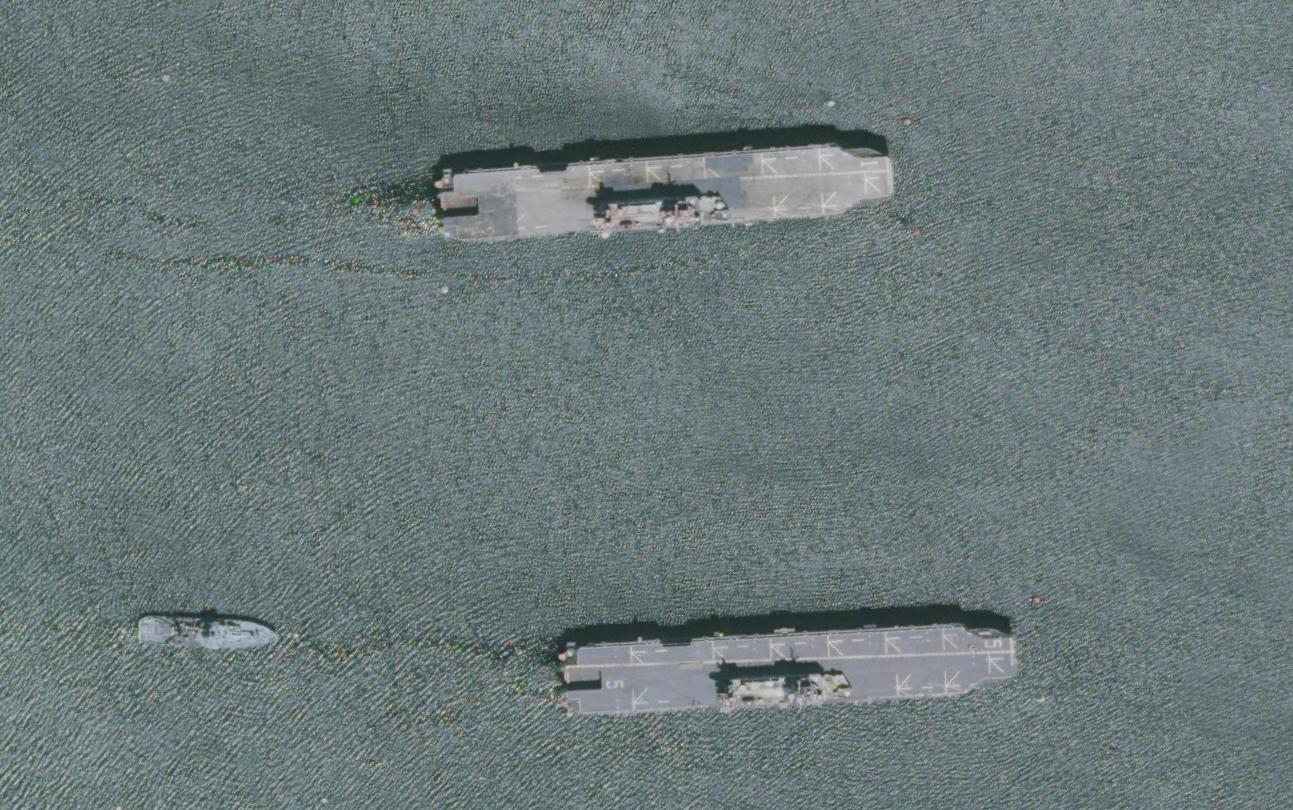pha: (553, 602, 1025, 729), (431, 131, 903, 249)
